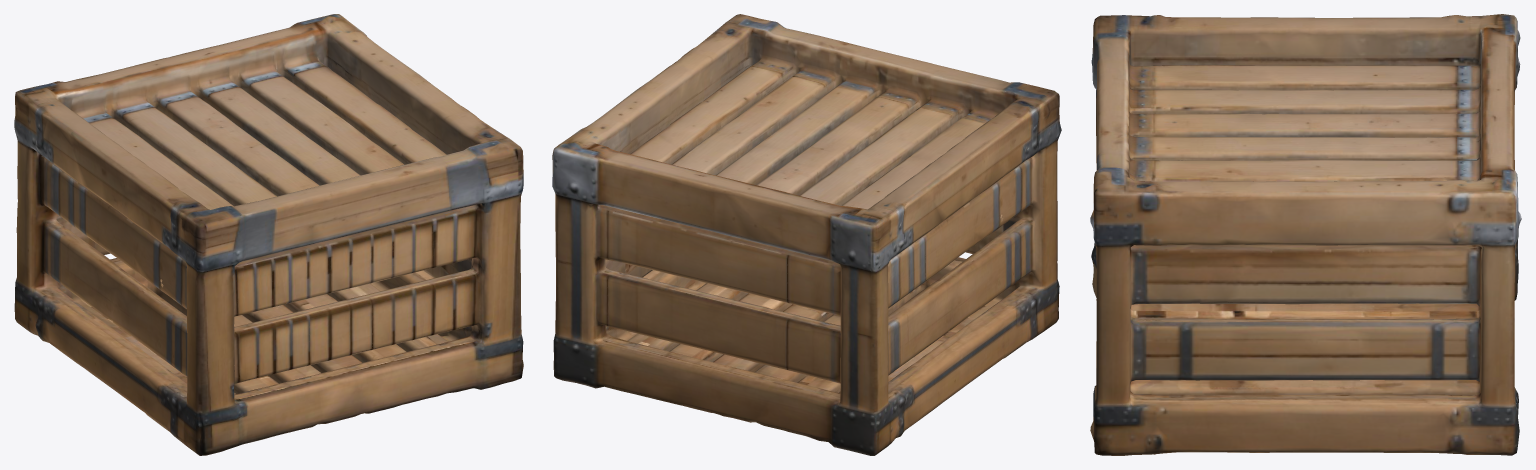
File: wooden-crate.glb
3 renders of one model, left to right at view 1: azimuth 30°, elevation 25°; view 2: azimuth 150°, elevation 25°; view 3: azimuth 270°, elevation 25°, orthographic. The views are drawn at different scales.
Parts seen in each view (by area): view 1: Mesh1.0; view 2: Mesh1.0; view 3: Mesh1.0.
Boxes of the visible parts, box(x1,y1,x2,y2) form: Mesh1.0: box(14, 14, 523, 455); Mesh1.0: box(552, 14, 1061, 455); Mesh1.0: box(1090, 14, 1521, 455).
Bounding box in the file's own units: 2 × 1.38 × 2.
1 material, 1 textured.
